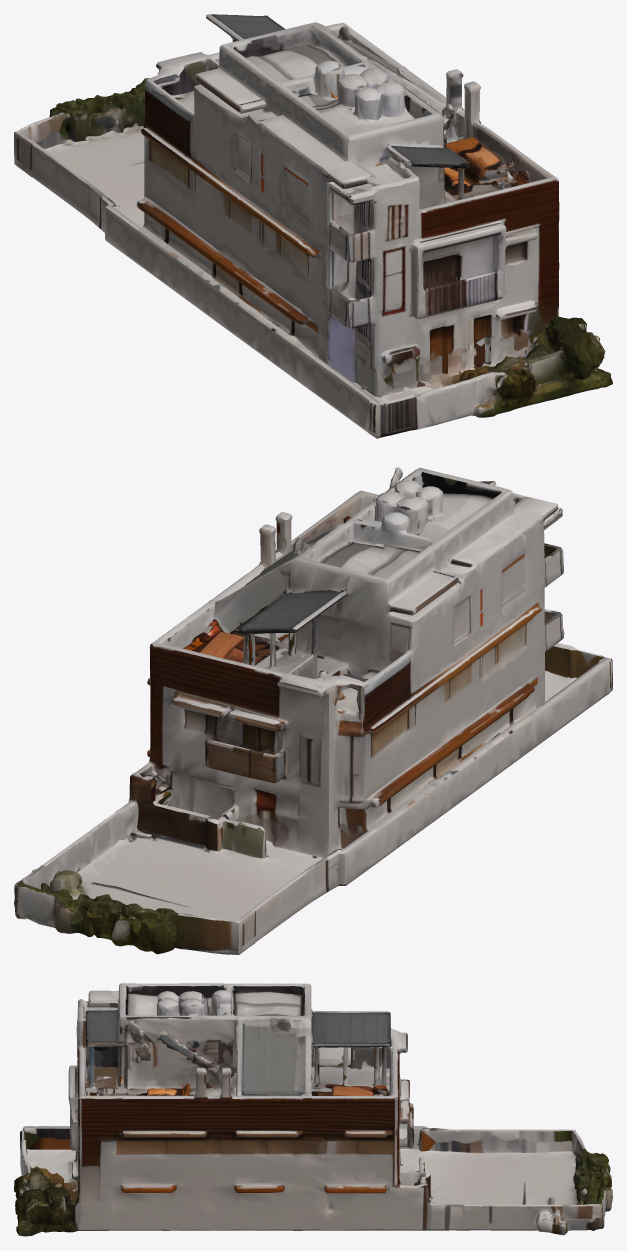
The model's file is concept-villa.glb.
3 renders of one model, top to bottom at view 1: azimuth 30°, elevation 25°; view 2: azimuth 150°, elevation 25°; view 3: azimuth 270°, elevation 25°, orthographic. The views are drawn at different scales.
Visible parts, largest first — view 1: textured_mesh; view 2: textured_mesh; view 3: textured_mesh.
Part boxes in pixels (x1,y1,x2,y2): textured_mesh: (14, 14, 612, 438); textured_mesh: (14, 467, 612, 954); textured_mesh: (14, 983, 612, 1236).
Size of the model in its own units: 0.6875 by 0.7041 by 1.99.
1 material, 1 textured.
